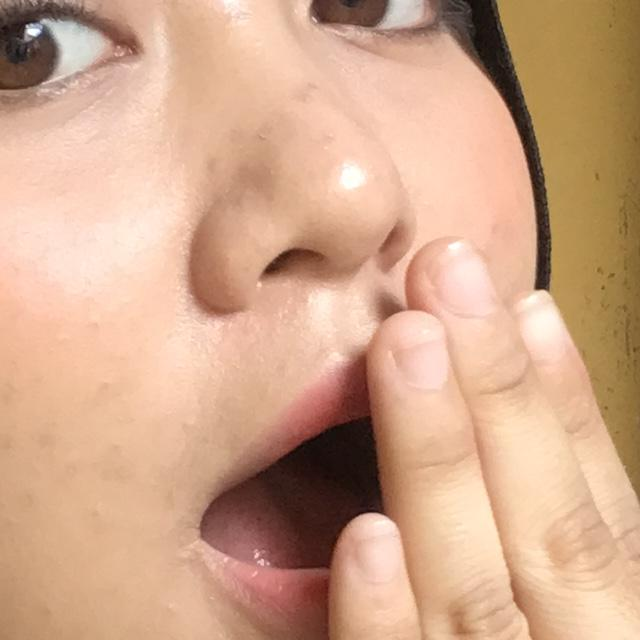ngantuk: (140, 176, 640, 640)
